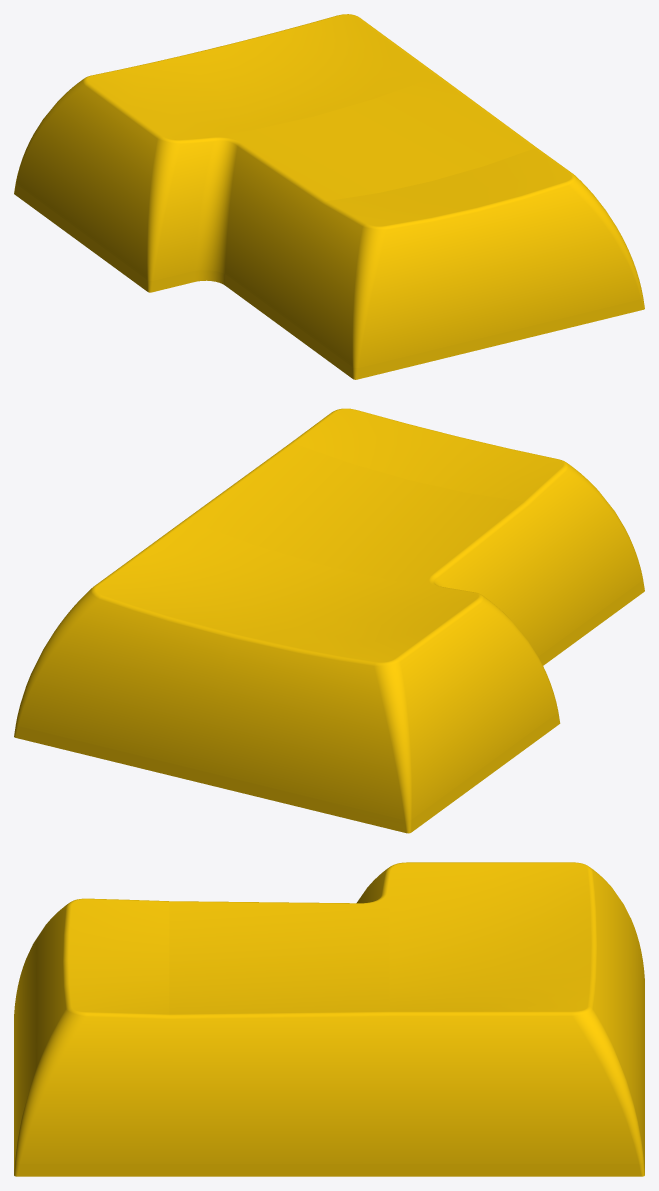
File: ISO_ENTER.glb
3 views of the same model, one above another, from view 1: azimuth 30°, elevation 25°; view 2: azimuth 150°, elevation 25°; view 3: azimuth 270°, elevation 25° (orthographic). The views are drawn at different scales.
Parts seen in each view (by area): view 1: Body109; view 2: Body109; view 3: Body109.
Boxes of the visible parts, x1=… form: Body109: x1=14, y1=14, x2=644, y2=379; Body109: x1=14, y1=408, x2=644, y2=833; Body109: x1=14, y1=862, x2=644, y2=1176.
Bounding box in the file's own units: 27.61 × 9.13 × 37.2.
